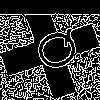Q: (25, 25, 83, 77)
